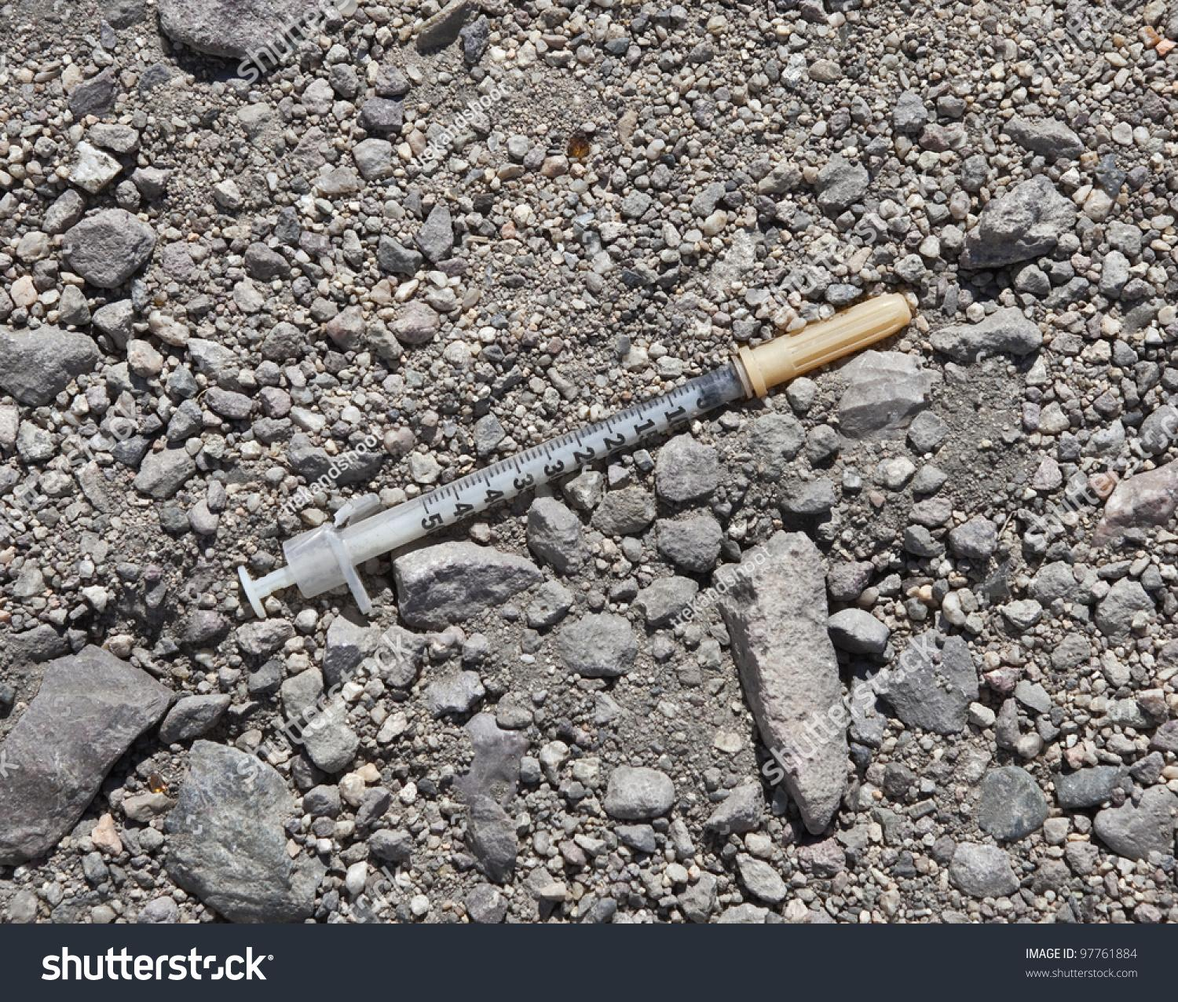Syringe: (239, 294, 910, 616)
